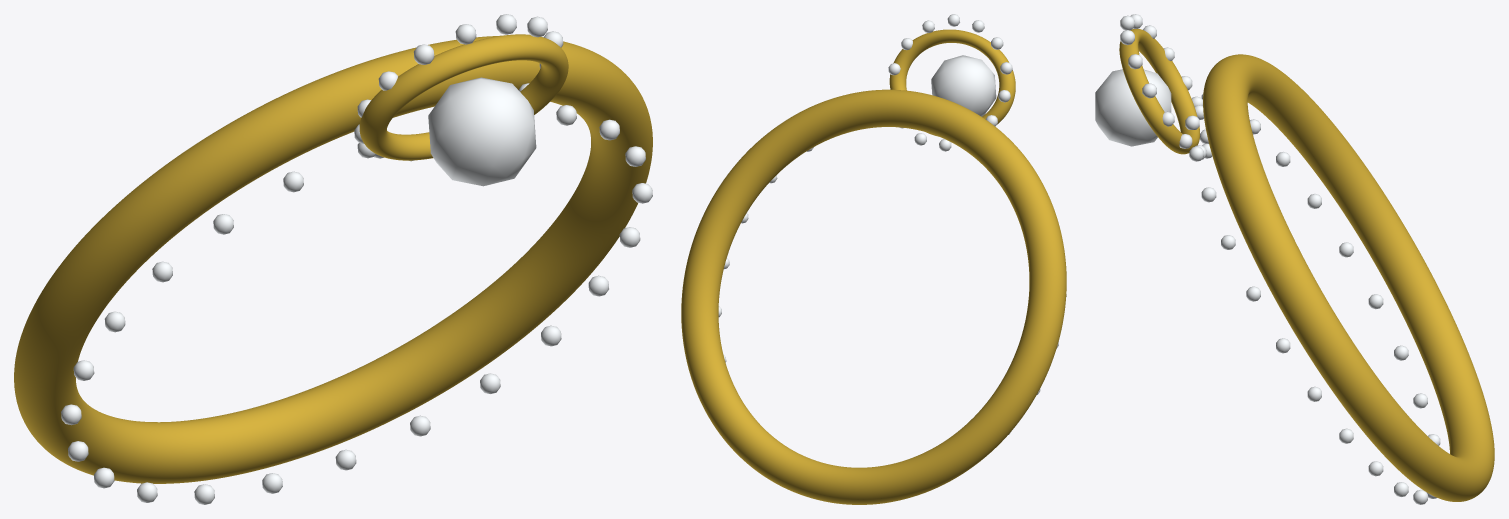
Rendered from aur-005-lumiere-halo.glb.
The picture shows the model from 3 angles, left to right: view 1: azimuth 30°, elevation 25°; view 2: azimuth 150°, elevation 25°; view 3: azimuth 270°, elevation 25°; orthographic projection. The views are drawn at different scales.
Visible parts, largest first — view 1: gold_band, centre_diamond, halo_frame; view 2: gold_band, halo_frame, centre_diamond; view 3: gold_band, halo_frame, centre_diamond.
Boxes of the visible parts, x1,y1,x2,y2 form: gold_band: [14, 35, 652, 483]; centre_diamond: [428, 77, 536, 186]; halo_frame: [359, 34, 568, 160]; gold_band: [681, 89, 1066, 504]; halo_frame: [889, 29, 1015, 136]; centre_diamond: [931, 55, 996, 116]; gold_band: [1203, 54, 1494, 501]; halo_frame: [1119, 28, 1199, 154]; centre_diamond: [1095, 69, 1171, 146].
Size of the model in its own units: 2.26 by 2.25 by 1.79.
